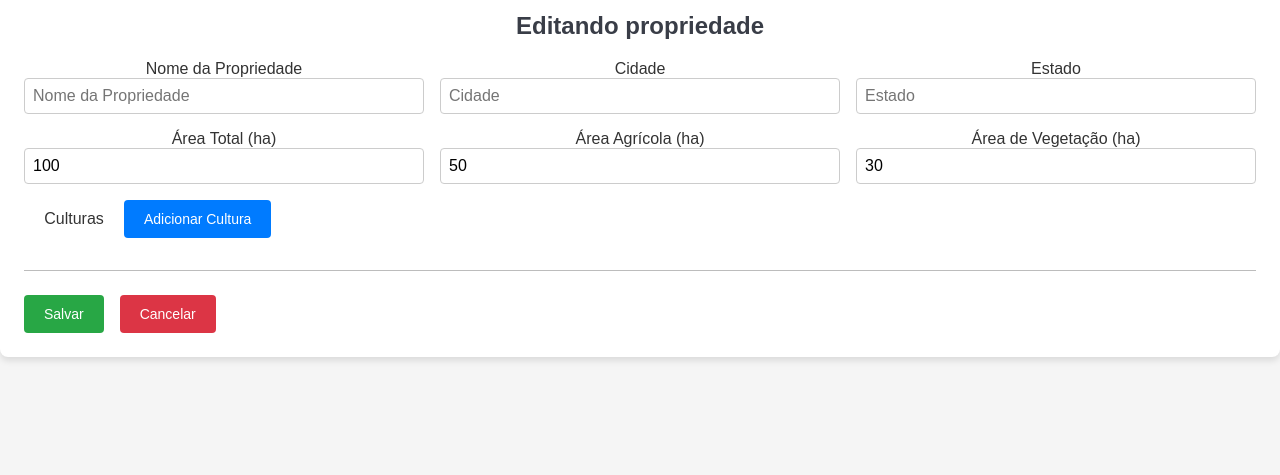
Formulário de Edição de Propriedade › deve permitir adicionar uma nova cultura
Click the button "Adicionar Cultura" at (198, 219), box [124, 200, 271, 238]
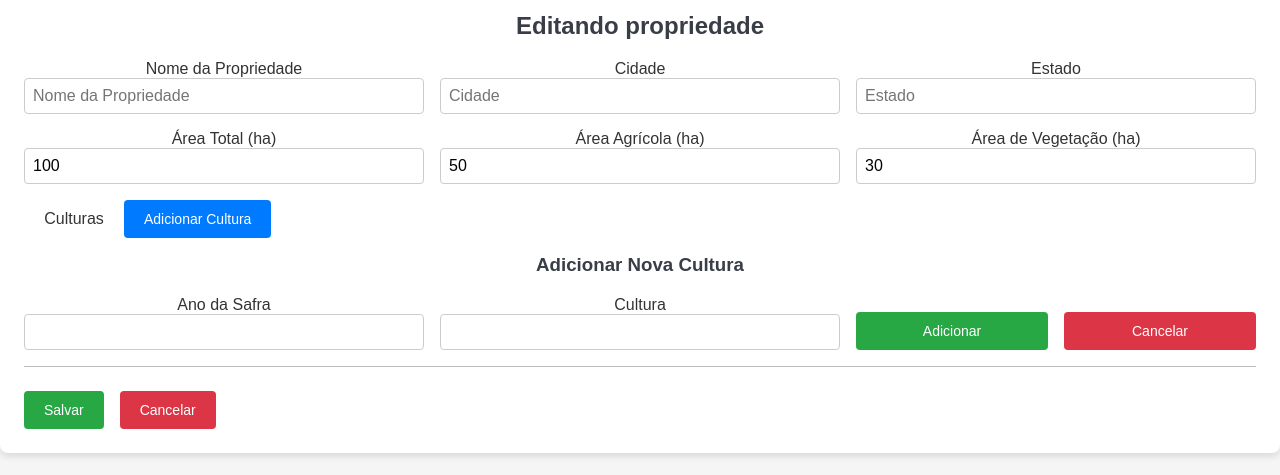
Now the heading "Adicionar Nova Cultura" is shown, box [536, 254, 744, 275]
